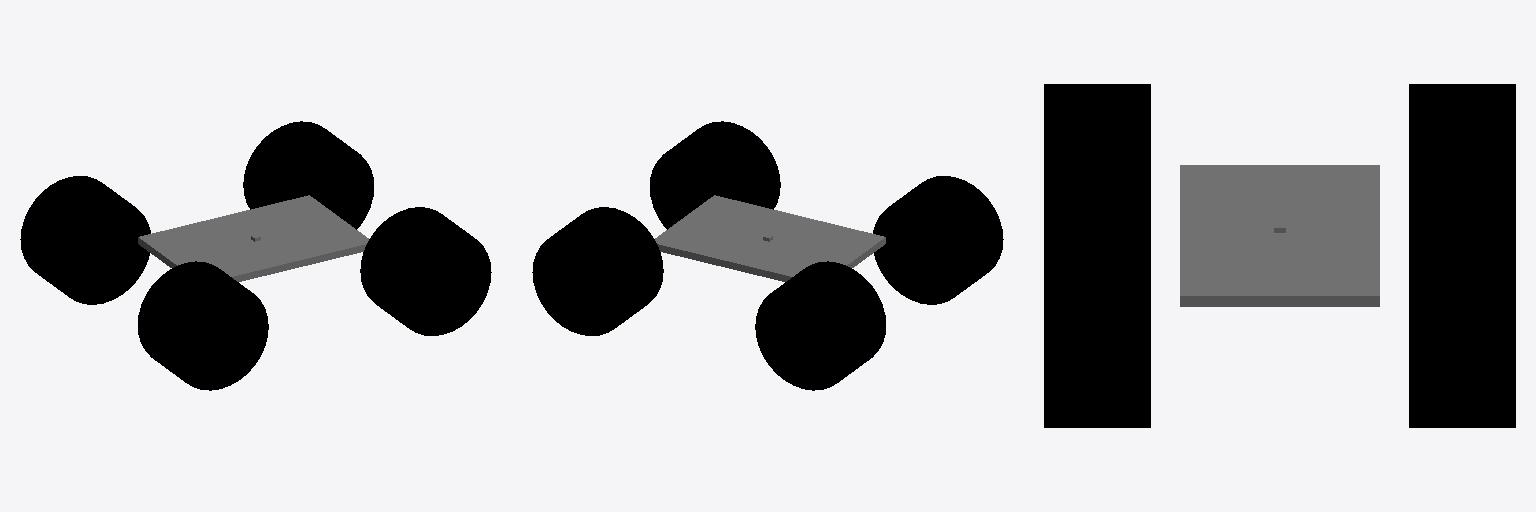
The robot description file, URDF, robot "em_3905":
<?xml version="1.0" encoding="utf-8"?>
<!-- =================================================================================== -->
<!-- |    This document was autogenerated by xacro from autocar.xacro                  | -->
<!-- |    EDITING THIS FILE BY HAND IS NOT RECOMMENDED                                 | -->
<!-- =================================================================================== -->
<!-- em_3905.urdf.xacro

This file defines a model of a Traxxas(R) E-Maxx(R) #3905 RC (Radio Controlled)
truck.

Lengths are measured in meters, angles are measured in radians, and masses are
measured in kilograms. All of these values are approximations.

To work with Gazebo, each link must have an inertial element, even if
the link only serves to connect two joints. To be visible in Gazebo, a link
must have a collision element. Furthermore, the link must have a Gazebo
material.

Traxxas(R), E-Maxx(R), and Titan(R) are registered trademarks of Traxxas
Management, LLC. em_3905.urdf.xacro was independently created by Wunderkammer
Laboratory, and neither em_3905.urdf.xacro nor Wunderkammer Laboratory is
affiliated with, sponsored by, approved by, or endorsed by Traxxas Management,
LLC. Mabuchi Motor(R) is a registered trademark of Mabuchi Motor Co., Ltd.
Corporation Japan. All other trademarks and service marks are the property of
their respective owners.

Copyright (c) 2011-2013 Wunderkammer Laboratory

Licensed under the Apache License, Version 2.0 (the "License");
you may not use this file except in compliance with the License.
You may obtain a copy of the License at

  http://www.apache.org/licenses/LICENSE-2.0

Unless required by applicable law or agreed to in writing, software
distributed under the License is distributed on an "AS IS" BASIS,
WITHOUT WARRANTIES OR CONDITIONS OF ANY KIND, either express or implied.
See the License for the specific language governing permissions and
limitations under the License.
-->
<robot name="em_3905">
  <material name="chassis_mat">
    <color rgba="0.5 0.5 0.5 1"/>
  </material>
  <material name="tire_mat">
    <color rgba="0 0 0 1"/>
  </material>
  <!-- base_link must have geometry so that its axes can be displayed in
       rviz. -->
  <link name="base_link">
    <visual>
      <geometry>
        <box size="0.01 0.01 0.01"/>
      </geometry>
      <material name="chassis_mat"/>
    </visual>
  </link>
  <gazebo reference="base_link">
    <material>Gazebo/Grey</material>
  </gazebo>
  <!-- Chassis -->
  <link name="chassis">
    <visual>
      <origin xyz="0 0 -0.005"/>
      <geometry>
        <box size="0.258 0.168 0.01"/>
      </geometry>
      <material name="chassis_mat"/>
    </visual>
    <collision>
      <origin xyz="0 0 -0.005"/>
      <geometry>
        <box size="0.258 0.168 0.01"/>
      </geometry>
    </collision>
    <inertial>
      <origin xyz="0 0 -0.005"/>
      <mass value="2.788"/>
      <inertia ixx="0.00658060933333" ixy="0" ixz="0" iyy="0.0154882693333" iyz="0" izz="0.022022412"/>
    </inertial>
  </link>
  <gazebo reference="chassis">
    <material>Gazebo/Grey</material>
  </gazebo>
  <joint name="base_link_to_chasis" type="fixed">
    <parent link="base_link"/>
    <child link="chassis"/>
  </joint>
  <joint name="left_front_shock" type="prismatic">
    <parent link="chassis"/>
    <child link="left_steering_link"/>
    <origin xyz="0.1675                    0.1525                    -0.0235"/>
    <axis xyz="0 0 -1"/>
    <limit effort="12.5106" lower="-0.042" upper="0.042" velocity="1000"/>
    <dynamics damping="80"/>
  </joint>
  <gazebo reference="left_front_shock">
    <implicitSpringDamper>true</implicitSpringDamper>
    <springStiffness>437.817</springStiffness>
    <springReference>0.028575</springReference>
  </gazebo>
  <link name="left_steering_link">
    <inertial>
      <mass value="0.001"/>
      <inertia ixx="0.001" ixy="0" ixz="0" iyy="0.001" iyz="0" izz="0.001"/>
    </inertial>
  </link>
  <joint name="left_steering_joint" type="revolute">
    <parent link="left_steering_link"/>
    <child link="left_front_axle_carrier"/>
    <axis xyz="0 0 1"/>
    <limit effort="0.5649" lower="-0.785398163" upper="0.785398163" velocity="4.553"/>
  </joint>
  <link name="left_front_axle_carrier">
    <inertial>
      <mass value="0.001"/>
      <inertia ixx="0.001" ixy="0" ixz="0" iyy="0.001" iyz="0" izz="0.001"/>
    </inertial>
  </link>
  <!-- The left and right axles have the same axis so that identical
         rotation values cause the wheels to rotate in the same direction. -->
  <joint name="left_front_axle" type="continuous">
    <parent link="left_front_axle_carrier"/>
    <child link="left_front_wheel"/>
    <origin rpy="1.57079633 0 0"/>
    <axis xyz="0 0 -1"/>
    <limit effort="5.12766" velocity="244.8696"/>
  </joint>
  <link name="left_front_wheel">
    <visual>
      <origin xyz="0                      -6.93889390391e-18                      0"/>
      <geometry>
        <cylinder length="0.0889" radius="0.073025"/>
      </geometry>
      <material name="tire_mat"/>
    </visual>
    <collision>
      <origin xyz="0                      -6.93889390391e-18                      0"/>
      <geometry>
        <cylinder length="0.0889" radius="0.073025"/>
      </geometry>
    </collision>
    <inertial>
      <mass value="0.29"/>
      <inertia ixx="0.000746465912979" ixy="0" ixz="0" iyy="0.000746465912979" iyz="0" izz="0.00111094334263"/>
    </inertial>
  </link>
  <gazebo reference="left_front_wheel">
    <material>Gazebo/Black</material>
  </gazebo>
  <joint name="right_front_shock" type="prismatic">
    <parent link="chassis"/>
    <child link="right_steering_link"/>
    <origin xyz="0.1675                    -0.1525                    -0.0235"/>
    <axis xyz="0 0 -1"/>
    <limit effort="12.5106" lower="-0.042" upper="0.042" velocity="1000"/>
    <dynamics damping="80"/>
  </joint>
  <gazebo reference="right_front_shock">
    <implicitSpringDamper>true</implicitSpringDamper>
    <springStiffness>437.817</springStiffness>
    <springReference>0.028575</springReference>
  </gazebo>
  <link name="right_steering_link">
    <inertial>
      <mass value="0.001"/>
      <inertia ixx="0.001" ixy="0" ixz="0" iyy="0.001" iyz="0" izz="0.001"/>
    </inertial>
  </link>
  <joint name="right_steering_joint" type="revolute">
    <parent link="right_steering_link"/>
    <child link="right_front_axle_carrier"/>
    <axis xyz="0 0 1"/>
    <limit effort="0.5649" lower="-0.785398163" upper="0.785398163" velocity="4.553"/>
  </joint>
  <link name="right_front_axle_carrier">
    <inertial>
      <mass value="0.001"/>
      <inertia ixx="0.001" ixy="0" ixz="0" iyy="0.001" iyz="0" izz="0.001"/>
    </inertial>
  </link>
  <!-- The left and right axles have the same axis so that identical
         rotation values cause the wheels to rotate in the same direction. -->
  <joint name="right_front_axle" type="continuous">
    <parent link="right_front_axle_carrier"/>
    <child link="right_front_wheel"/>
    <origin rpy="1.57079633 0 0"/>
    <axis xyz="0 0 -1"/>
    <limit effort="5.12766" velocity="244.8696"/>
  </joint>
  <link name="right_front_wheel">
    <visual>
      <origin xyz="0                      6.93889390391e-18                      0"/>
      <geometry>
        <cylinder length="0.0889" radius="0.073025"/>
      </geometry>
      <material name="tire_mat"/>
    </visual>
    <collision>
      <origin xyz="0                      6.93889390391e-18                      0"/>
      <geometry>
        <cylinder length="0.0889" radius="0.073025"/>
      </geometry>
    </collision>
    <inertial>
      <mass value="0.29"/>
      <inertia ixx="0.000746465912979" ixy="0" ixz="0" iyy="0.000746465912979" iyz="0" izz="0.00111094334263"/>
    </inertial>
  </link>
  <gazebo reference="right_front_wheel">
    <material>Gazebo/Black</material>
  </gazebo>
  <joint name="left_rear_shock" type="prismatic">
    <parent link="chassis"/>
    <child link="left_rear_axle_carrier"/>
    <origin xyz="-0.1675                    0.1525                    -0.0235"/>
    <axis xyz="0 0 -1"/>
    <limit effort="12.5106" lower="-0.042" upper="0.042" velocity="1000"/>
    <dynamics damping="80"/>
  </joint>
  <gazebo reference="left_rear_shock">
    <implicitSpringDamper>true</implicitSpringDamper>
    <springStiffness>437.817</springStiffness>
    <springReference>0.028575</springReference>
  </gazebo>
  <link name="left_rear_axle_carrier">
    <inertial>
      <mass value="0.001"/>
      <inertia ixx="0.001" ixy="0" ixz="0" iyy="0.001" iyz="0" izz="0.001"/>
    </inertial>
  </link>
  <!-- The left and right axles have the same axis so that identical
         rotation values cause the wheels to rotate in the same direction. -->
  <joint name="left_rear_axle" type="continuous">
    <parent link="left_rear_axle_carrier"/>
    <child link="left_rear_wheel"/>
    <origin rpy="1.57079633 0 0"/>
    <axis xyz="0 0 -1"/>
    <limit effort="5.12766" velocity="244.8696"/>
  </joint>
  <link name="left_rear_wheel">
    <visual>
      <origin xyz="0                      -6.93889390391e-18                      0"/>
      <geometry>
        <cylinder length="0.0889" radius="0.073025"/>
      </geometry>
      <material name="tire_mat"/>
    </visual>
    <collision>
      <origin xyz="0                      -6.93889390391e-18                      0"/>
      <geometry>
        <cylinder length="0.0889" radius="0.073025"/>
      </geometry>
    </collision>
    <inertial>
      <mass value="0.29"/>
      <inertia ixx="0.000746465912979" ixy="0" ixz="0" iyy="0.000746465912979" iyz="0" izz="0.00111094334263"/>
    </inertial>
  </link>
  <gazebo reference="left_rear_wheel">
    <material>Gazebo/Black</material>
  </gazebo>
  <joint name="right_rear_shock" type="prismatic">
    <parent link="chassis"/>
    <child link="right_rear_axle_carrier"/>
    <origin xyz="-0.1675                    -0.1525                    -0.0235"/>
    <axis xyz="0 0 -1"/>
    <limit effort="12.5106" lower="-0.042" upper="0.042" velocity="1000"/>
    <dynamics damping="80"/>
  </joint>
  <gazebo reference="right_rear_shock">
    <implicitSpringDamper>true</implicitSpringDamper>
    <springStiffness>437.817</springStiffness>
    <springReference>0.028575</springReference>
  </gazebo>
  <link name="right_rear_axle_carrier">
    <inertial>
      <mass value="0.001"/>
      <inertia ixx="0.001" ixy="0" ixz="0" iyy="0.001" iyz="0" izz="0.001"/>
    </inertial>
  </link>
  <!-- The left and right axles have the same axis so that identical
         rotation values cause the wheels to rotate in the same direction. -->
  <joint name="right_rear_axle" type="continuous">
    <parent link="right_rear_axle_carrier"/>
    <child link="right_rear_wheel"/>
    <origin rpy="1.57079633 0 0"/>
    <axis xyz="0 0 -1"/>
    <limit effort="5.12766" velocity="244.8696"/>
  </joint>
  <link name="right_rear_wheel">
    <visual>
      <origin xyz="0                      6.93889390391e-18                      0"/>
      <geometry>
        <cylinder length="0.0889" radius="0.073025"/>
      </geometry>
      <material name="tire_mat"/>
    </visual>
    <collision>
      <origin xyz="0                      6.93889390391e-18                      0"/>
      <geometry>
        <cylinder length="0.0889" radius="0.073025"/>
      </geometry>
    </collision>
    <inertial>
      <mass value="0.29"/>
      <inertia ixx="0.000746465912979" ixy="0" ixz="0" iyy="0.000746465912979" iyz="0" izz="0.00111094334263"/>
    </inertial>
  </link>
  <gazebo reference="right_rear_wheel">
    <material>Gazebo/Black</material>
  </gazebo>
</robot>

--- What the picture shows (computed from the rendered views, not written in the file) ---
The picture shows the robot from 3 angles, left to right: view 1: azimuth 30°, elevation 25°; view 2: azimuth 150°, elevation 25°; view 3: azimuth 270°, elevation 25°; orthographic projection.
Model em_3905 with 12 links and 11 joints (2 revolute, 4 continuous, 4 prismatic, 1 fixed), rooted at base_link, posed every joint at zero.
Visible links, largest first — view 1: right_front_wheel, right_rear_wheel, left_rear_wheel, chassis, left_front_wheel; view 2: left_front_wheel, left_rear_wheel, right_rear_wheel, chassis, right_front_wheel; view 3: chassis, left_front_wheel, right_front_wheel, left_rear_wheel, right_rear_wheel.
Link boxes in pixels (x1,y1,x2,y2): right_front_wheel: (360,207,491,335); right_rear_wheel: (138,261,268,390); left_rear_wheel: (20,176,150,304); chassis: (138,195,368,281); left_front_wheel: (243,121,373,229); left_front_wheel: (532,207,663,335); left_rear_wheel: (755,261,885,390); right_rear_wheel: (873,176,1003,304); chassis: (655,195,885,281); right_front_wheel: (650,121,780,229); chassis: (1180,165,1379,306); left_front_wheel: (1409,253,1515,427); right_front_wheel: (1044,253,1150,427); left_rear_wheel: (1409,84,1515,252); right_rear_wheel: (1044,84,1150,252).
Bounding box of the posed robot: 0.4811 × 0.3939 × 0.1461 m (x, y, z).
Geometry: primitives only (box / cylinder / sphere), no mesh files.
